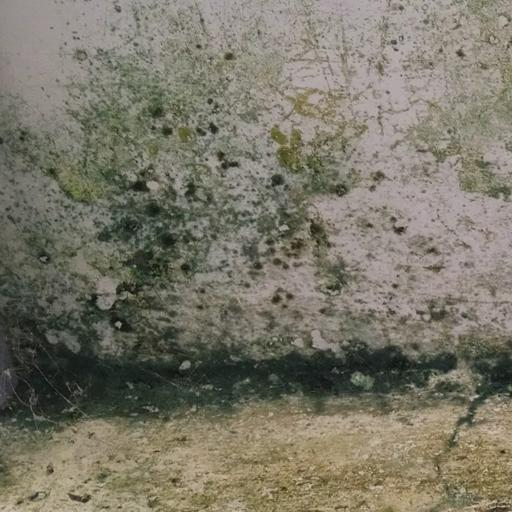algae: (11, 59, 512, 512)
